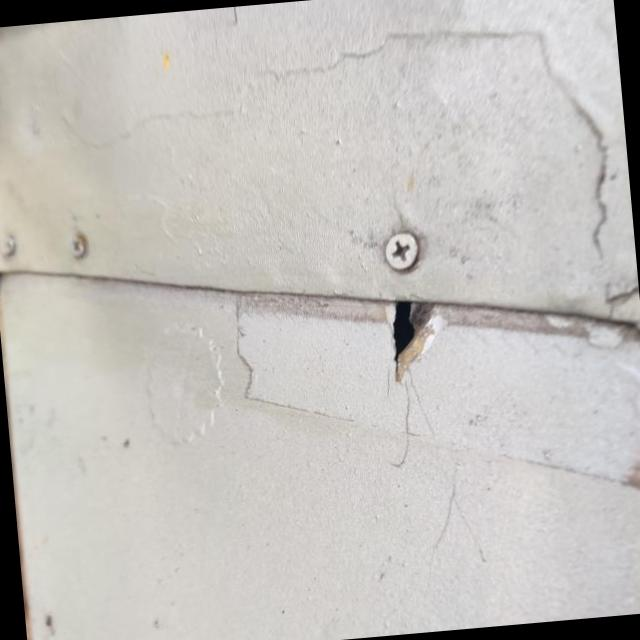Crack: (395, 302, 447, 383)
